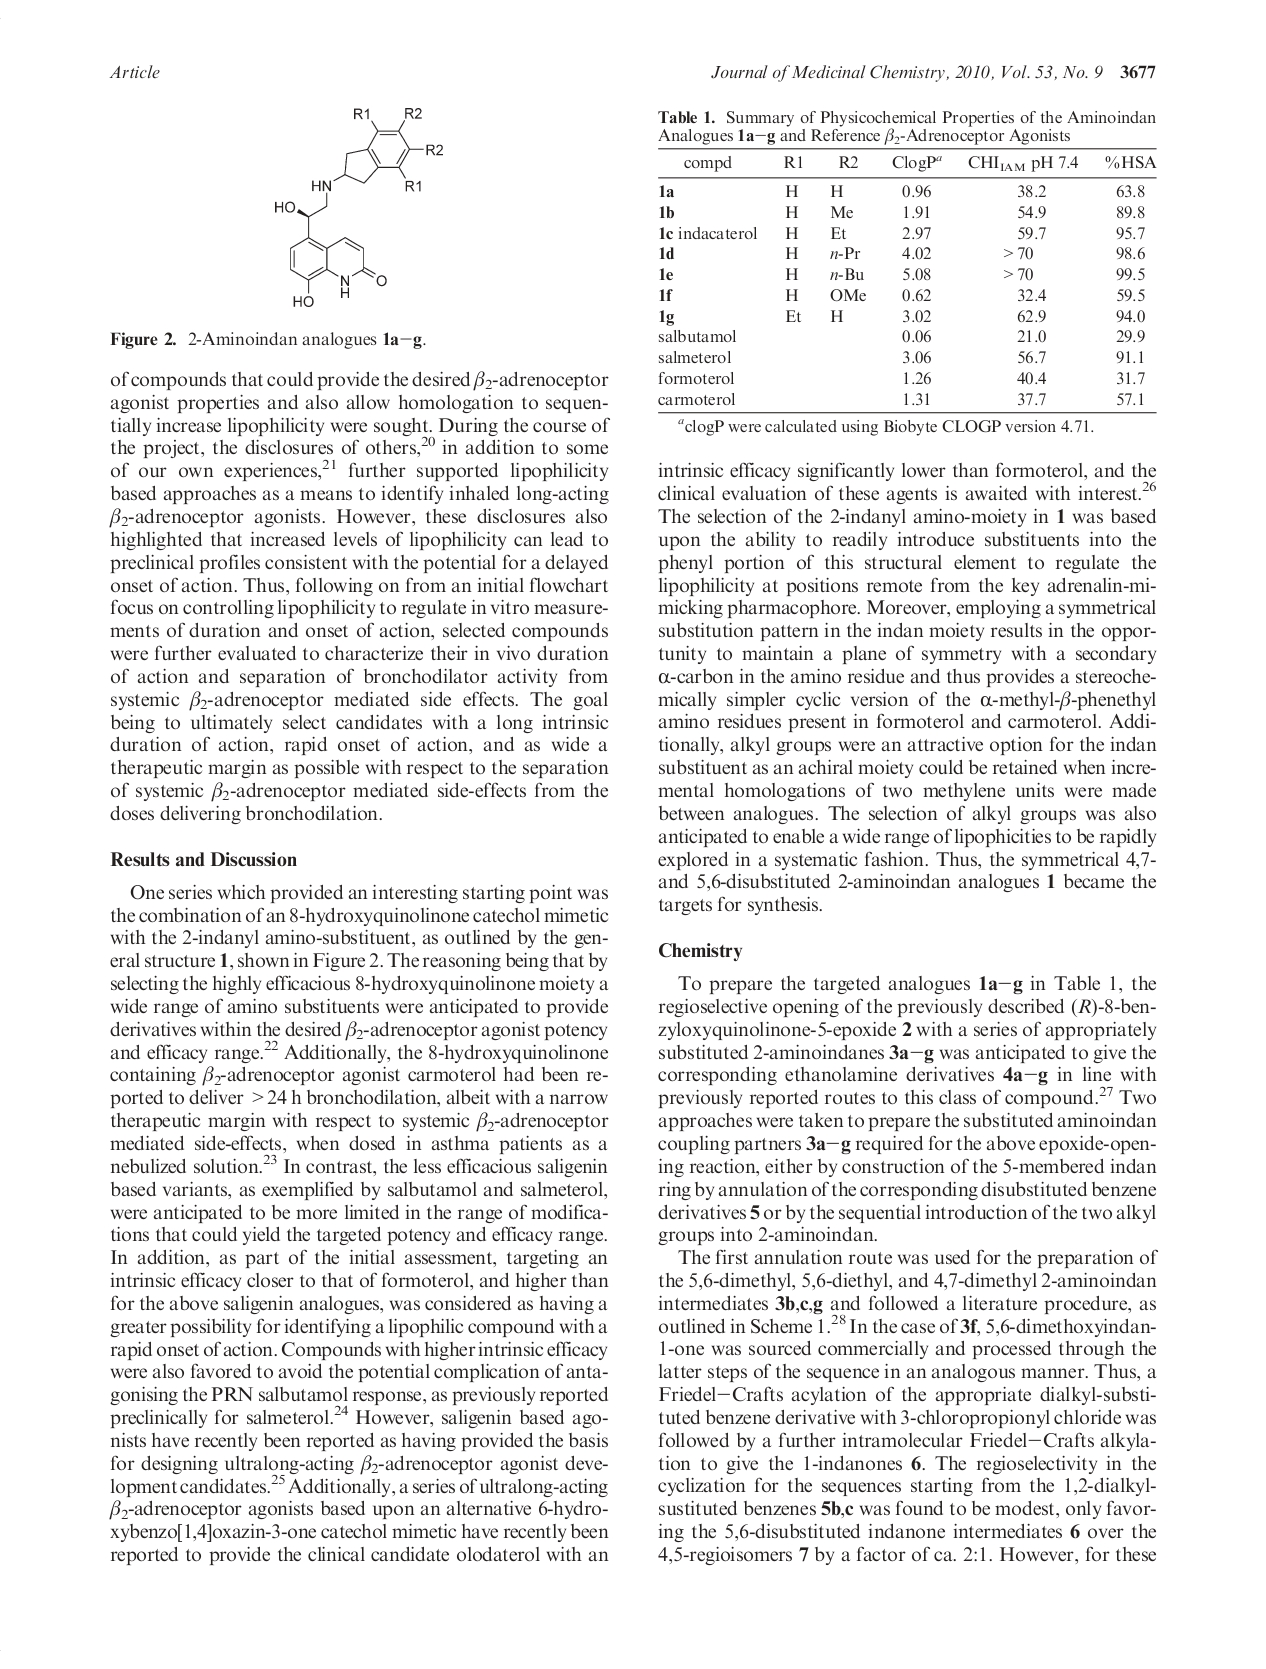exist_molecular: (265, 100, 449, 313)
